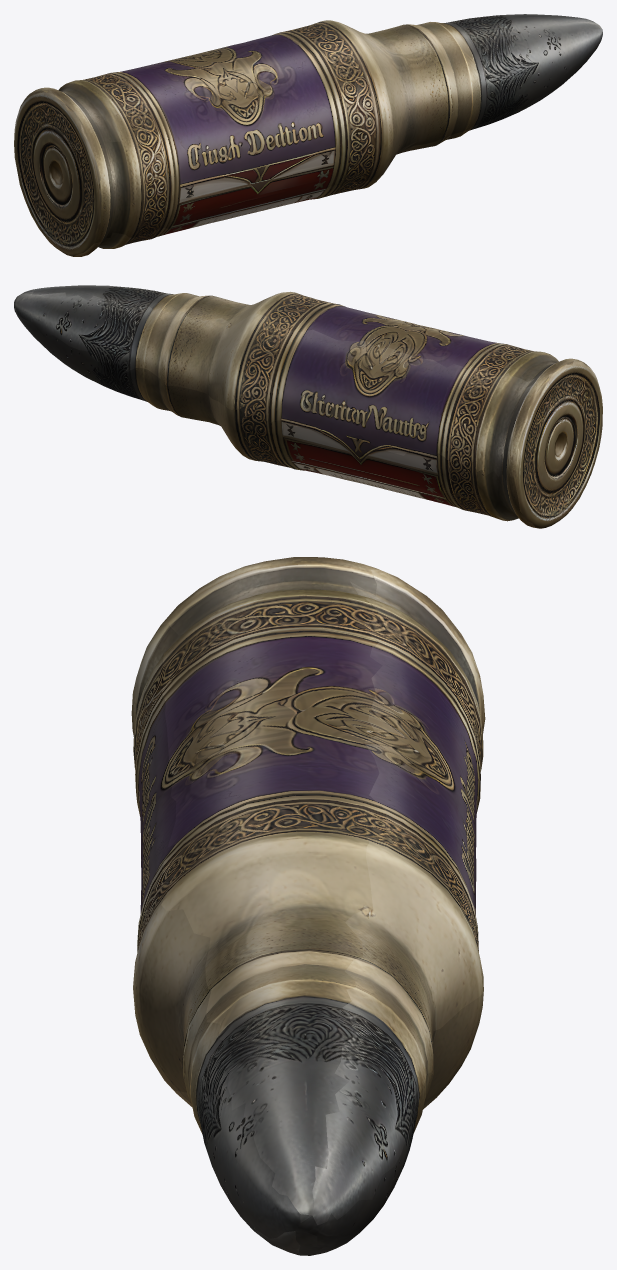
File: Bullet.fbx
3 views of the same model, one above another, from view 1: azimuth 30°, elevation 25°; view 2: azimuth 150°, elevation 25°; view 3: azimuth 270°, elevation 25° (orthographic). The views are drawn at different scales.
Parts seen in each view (by area): view 1: input; view 2: input; view 3: input.
Boxes of the visible parts, x1,y1,x2,y2 form: input: (14,14,602,256); input: (14,285,602,528); input: (131,557,485,1255).
Size of the model in its own units: 99.85 by 27.2 by 28.01.
Materials: 1 (1 with a texture image).
